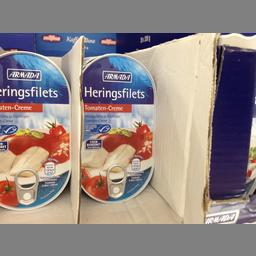fish: (0, 50, 72, 208), (82, 52, 156, 204)
